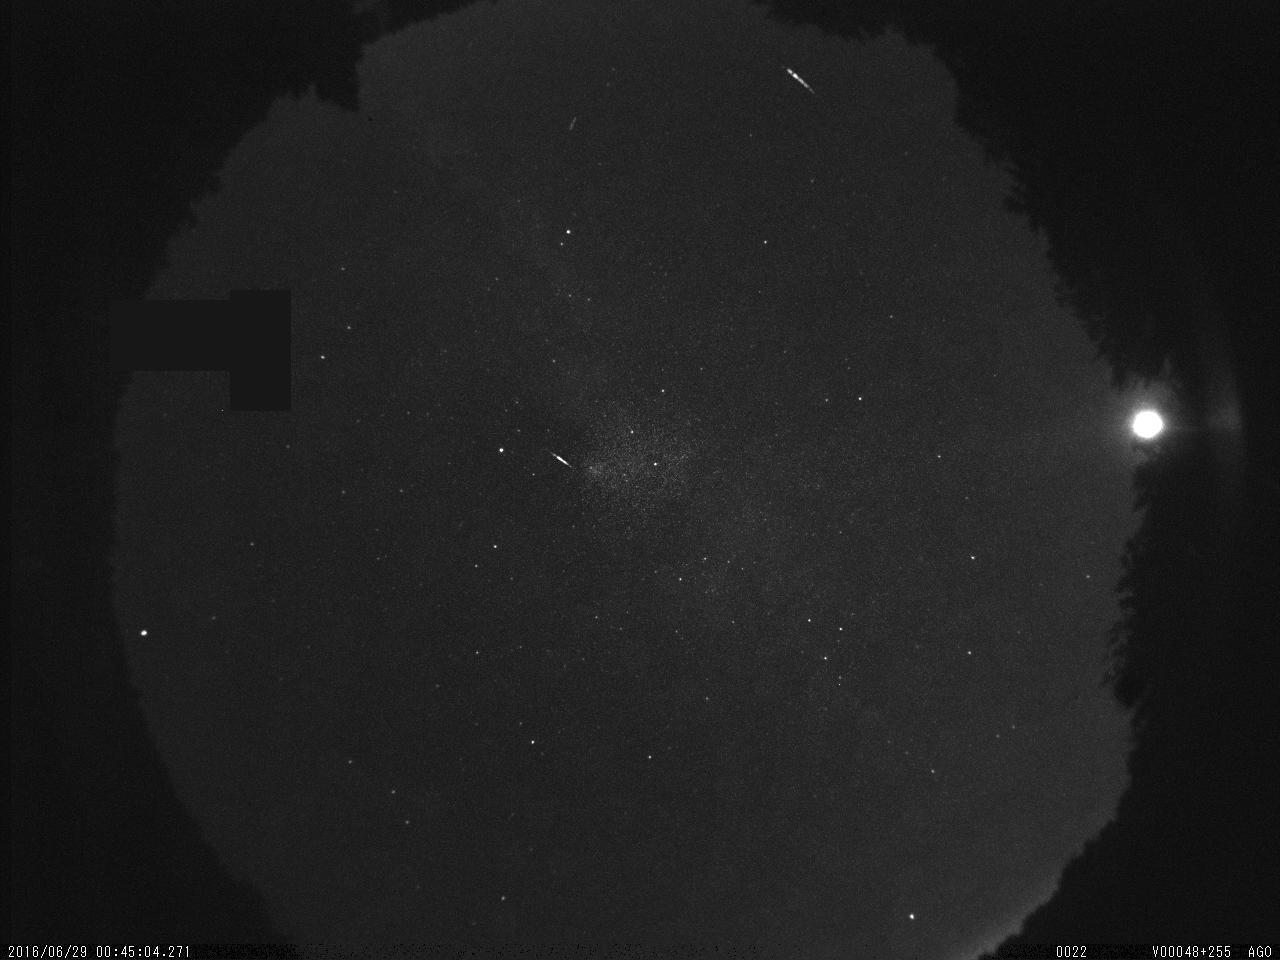meteor: (545, 443, 586, 482)
